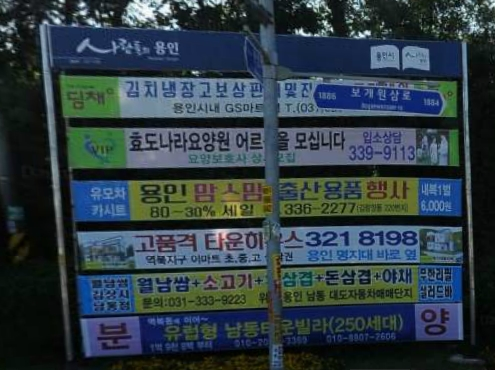banner: (48, 114, 472, 174), (57, 257, 479, 317), (41, 68, 473, 123), (46, 173, 485, 226), (55, 310, 490, 354), (51, 221, 484, 264)
